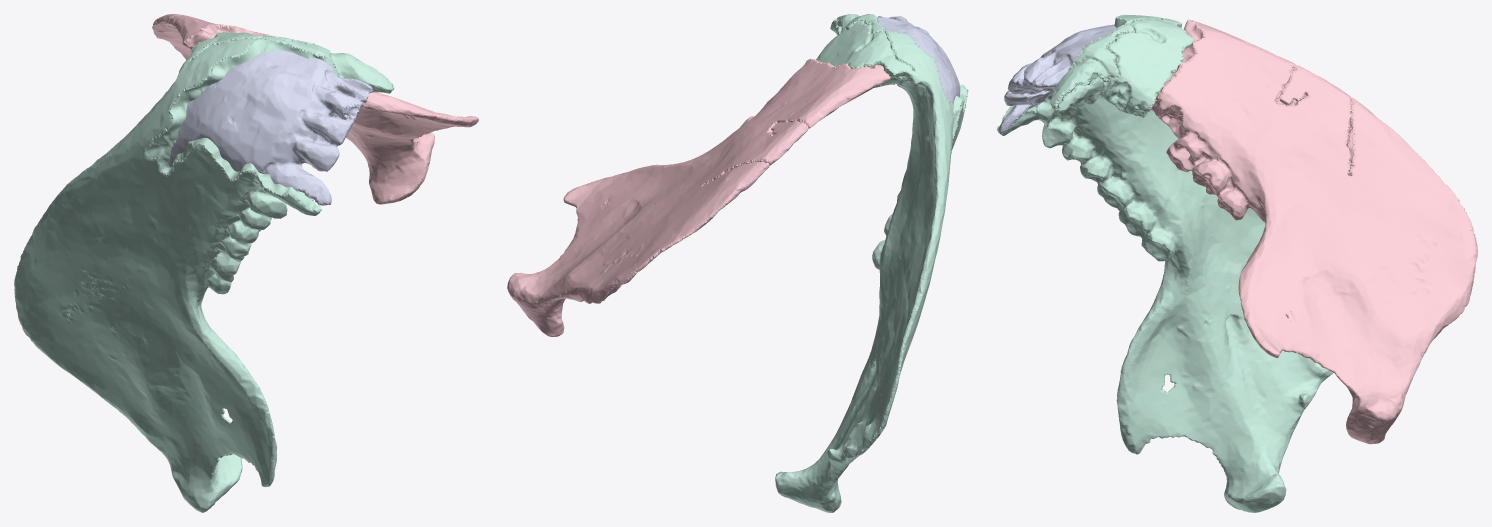
The model's file is 73544_colored.glb.
3 renders of one model, left to right at view 1: azimuth 30°, elevation 25°; view 2: azimuth 150°, elevation 25°; view 3: azimuth 270°, elevation 25°, orthographic. The views are drawn at different scales.
Parts seen in each view (by area): view 1: world; view 2: world; view 3: world.
Part boxes in pixels (x1,y1,x2,y2): world: [14, 14, 478, 512]; world: [507, 14, 968, 512]; world: [997, 14, 1477, 512].
Bounding box in the file's own units: 0.8898 × 1.01 × 0.9014.
